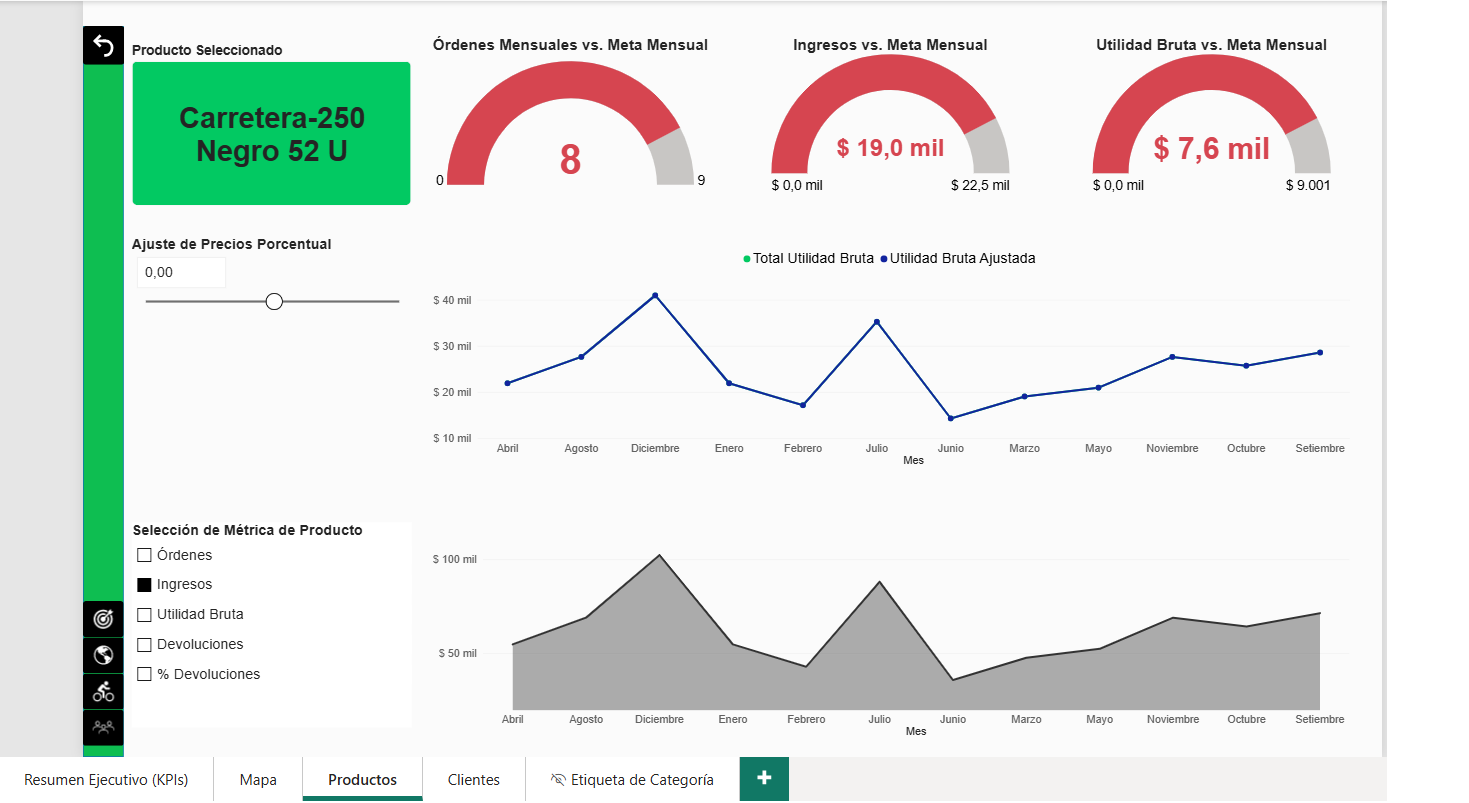

The page's visual inventory and layout, read from the dashboard file:
{"tool":"powerbi","page":{"name":"Productos","canvas":[1920,1080],"ordinal":2},"visuals":[{"type":"shape","box":[0,0,60,1080],"z":0},{"type":"gauge","title":"Órdenes Mensuales vs. Meta Mensual","fields":{"MaxValue":["Tabla de Medidas.Meta de Ordenes"],"Y":["Tabla de Medidas.Total de Ordenes"]},"box":[500.1,0,439.5,265.9],"z":1000},{"type":"gauge","title":"Utilidad Bruta vs. Meta Mensual","fields":{"MaxValue":["Tabla de Medidas.Meta de Utlidad Bruta"],"Y":["Tabla de Medidas.Total Utilidad Bruta"]},"box":[1447.5,0,439.5,265.9],"z":2000},{"type":"gauge","title":"Ingresos vs. Meta Mensual","fields":{"MaxValue":["Tabla de Medidas.Meta de Ingresos"],"Y":["Tabla de Medidas.Total de Ingresos"]},"box":[973.8,0,439.5,265.9],"z":3000},{"type":"lineChart","title":"Utilidad Bruta Mensual","fields":{"Category":["Calendario.Jerarquía de Fecha.Año","Calendario.Jerarquía de Fecha.Trimestre","Calendario.Jerarquía de Fecha.Mes"],"Y":["Tabla de Medidas.Total Utilidad Bruta","Tabla de Medidas.Utilidad Bruta Ajustada"]},"box":[500.5,310.3,1386.9,356.4],"z":4000},{"type":"areaChart","title":"Devoluciones Mensuales","fields":{"Category":["Calendario.Jerarquía de Fecha.Año","Calendario.Jerarquía de Fecha.Trimestre","Calendario.Jerarquía de Fecha.Mes"],"Y":["Tabla de Medidas.Total de Ingresos"]},"box":[501,709.5,1386.3,357.8],"z":5000},{"type":"cardVisual","title":"Producto Seleccionado","fields":{"Data":["Min(Productos.Producto)"]},"box":[72,24,413.7,241.9],"z":6000},{"type":"actionButton","box":[0,849.3,60,53.3],"z":7000},{"type":"actionButton","box":[0,956,60,53.3],"z":8000},{"type":"actionButton","box":[0,1009.3,60,53.3],"z":9000},{"type":"actionButton","box":[0,902.7,60,53.3],"z":10000},{"type":"slicer","title":"Ajuste de Precios Porcentual","fields":{"Values":["Ajuste de Precios Porcentual.Ajuste de Precios Porcentual"]},"box":[72,310.3,413.7,127.4],"z":11000},{"type":"slicer","title":"Selección de Métrica de Producto","fields":{"Values":["Selección de Métrica de Producto.Selección de Métrica de Producto"]},"box":[72,733.2,413.7,302.9],"z":12000},{"type":"actionButton","box":[0,0,60.9,57.3],"z":13000}]}

Visuals, with their boxes on the page's 1920x1080 design canvas (x1, y1, x2, y2). These are canvas units, not pixel positions in the 1469x803 screenshot, which may show the page scaled, cropped or inside an application window:
shape: [0, 0, 60, 1080]
"Órdenes Mensuales vs. Meta Mensual" gauge: [500, 0, 940, 266]
"Utilidad Bruta vs. Meta Mensual" gauge: [1448, 0, 1887, 266]
"Ingresos vs. Meta Mensual" gauge: [974, 0, 1413, 266]
"Utilidad Bruta Mensual" lineChart: [500, 310, 1887, 667]
"Devoluciones Mensuales" areaChart: [501, 710, 1887, 1067]
"Producto Seleccionado" cardVisual: [72, 24, 486, 266]
actionButton: [0, 849, 60, 903]
actionButton: [0, 956, 60, 1009]
actionButton: [0, 1009, 60, 1063]
actionButton: [0, 903, 60, 956]
"Ajuste de Precios Porcentual" slicer: [72, 310, 486, 438]
"Selección de Métrica de Producto" slicer: [72, 733, 486, 1036]
actionButton: [0, 0, 61, 57]
